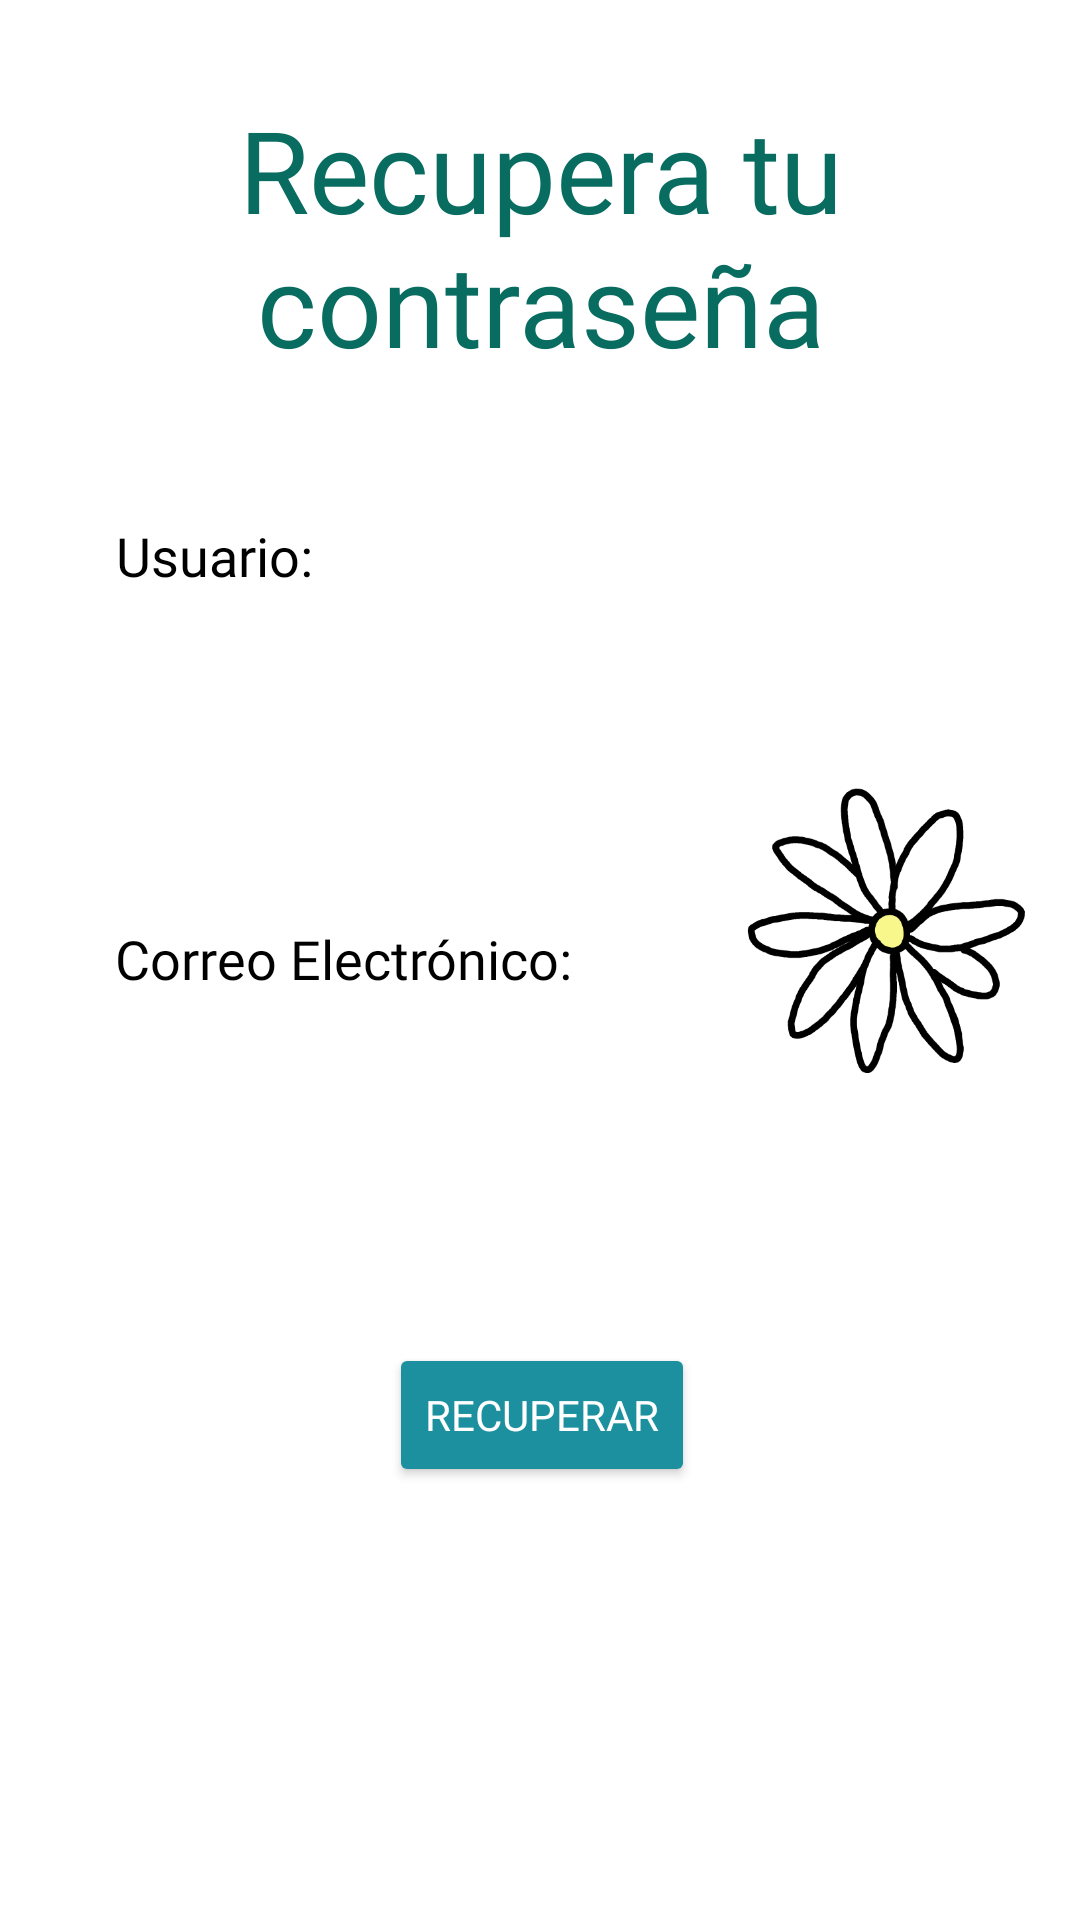

Where to tap for icons on this 1080w x 1920h app screen, as (x=x, y=y):
sticker: (x=886, y=930)
